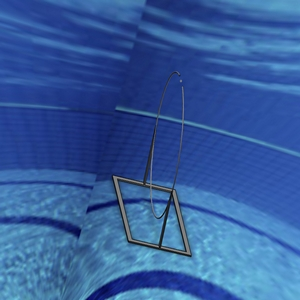circle: (114, 66, 194, 258)
